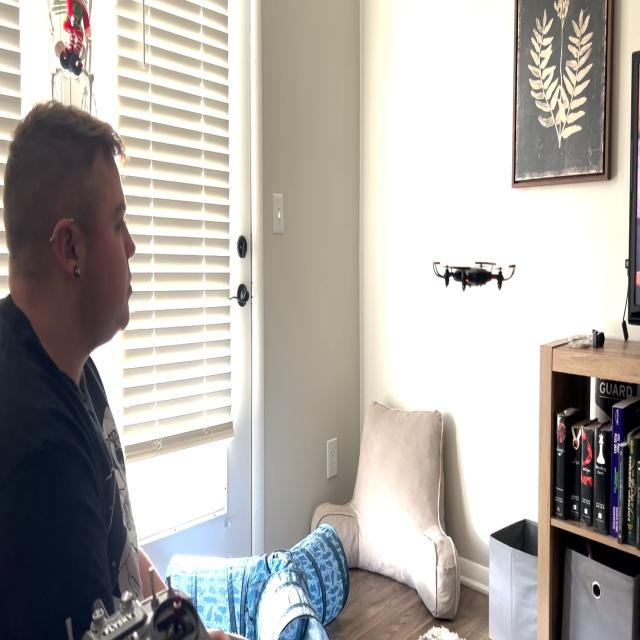drone: (428, 238, 525, 308)
